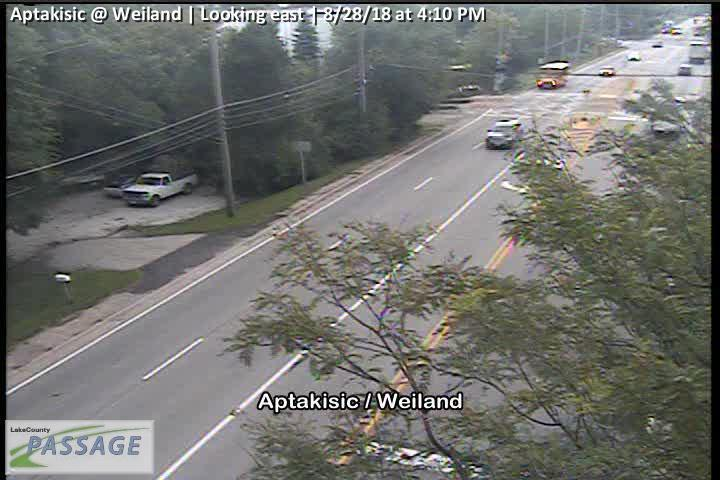Bus: (536, 61, 569, 89), (671, 27, 680, 34)
Sedan: (486, 118, 523, 148), (599, 66, 616, 75), (678, 63, 691, 74), (627, 53, 640, 60)
Truck: (122, 171, 199, 206), (689, 41, 707, 63)
